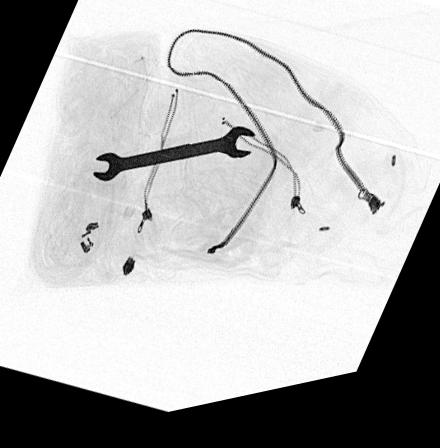Wrench: (91, 133, 254, 187)
